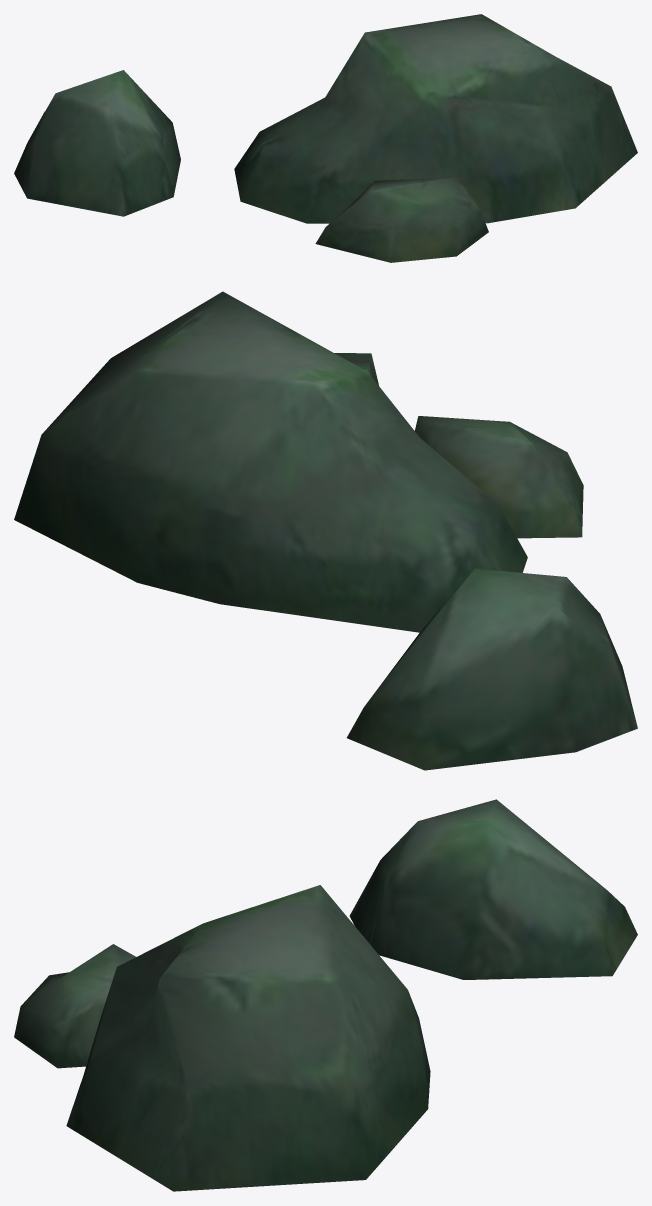
The model's file is Moba_st05.FBX.
The picture shows the model from 3 angles, top to bottom: view 1: azimuth 30°, elevation 25°; view 2: azimuth 150°, elevation 25°; view 3: azimuth 270°, elevation 25°; orthographic projection. The views are drawn at different scales.
Visible parts, largest first — view 1: Moba_st05; view 2: Moba_st05; view 3: Moba_st05.
Boxes of the visible parts, x1,y1,x2,y2 form: Moba_st05: (14,14,637,262); Moba_st05: (14,291,637,770); Moba_st05: (14,799,637,1191).
Size of the model in its own units: 9.1 by 7.6 by 2.37.
